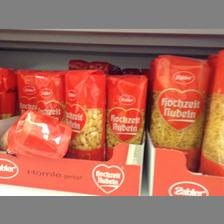Nudeln: (148, 54, 210, 170), (62, 68, 106, 160), (0, 106, 72, 160), (106, 71, 146, 163)
